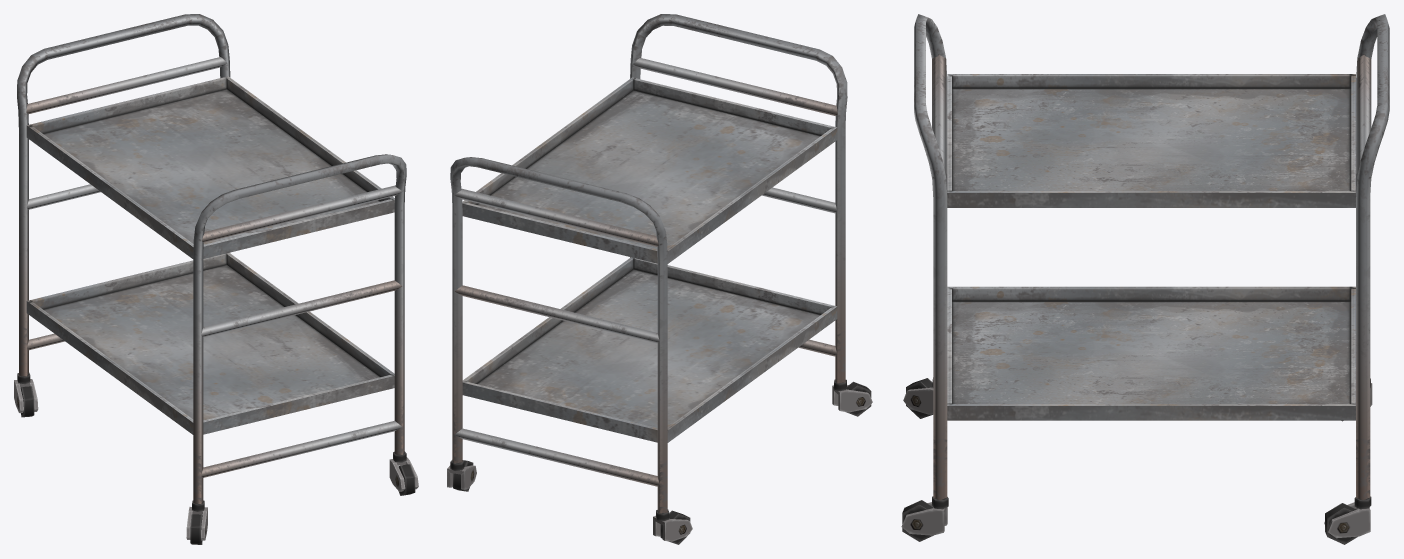
The model's file is hospitalTrolley.FBX.
The picture shows the model from 3 angles, left to right: view 1: azimuth 30°, elevation 25°; view 2: azimuth 150°, elevation 25°; view 3: azimuth 270°, elevation 25°; orthographic projection. The views are drawn at different scales.
Visible parts, largest first — view 1: hospitalTrolley; view 2: hospitalTrolley; view 3: hospitalTrolley.
Boxes of the visible parts, x1=… form: hospitalTrolley: x1=14, y1=14, x2=418, y2=544; hospitalTrolley: x1=447, y1=14, x2=872, y2=544; hospitalTrolley: x1=901, y1=14, x2=1389, y2=544.
Bounding box in the file's own units: 70.24 × 98.73 × 104.
